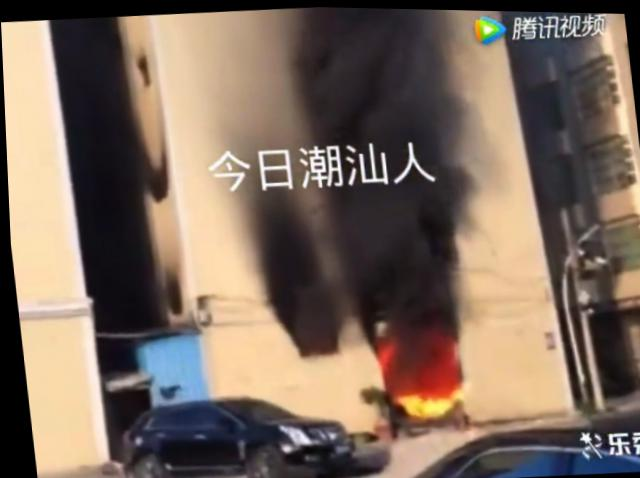fire: (376, 334, 463, 422)
